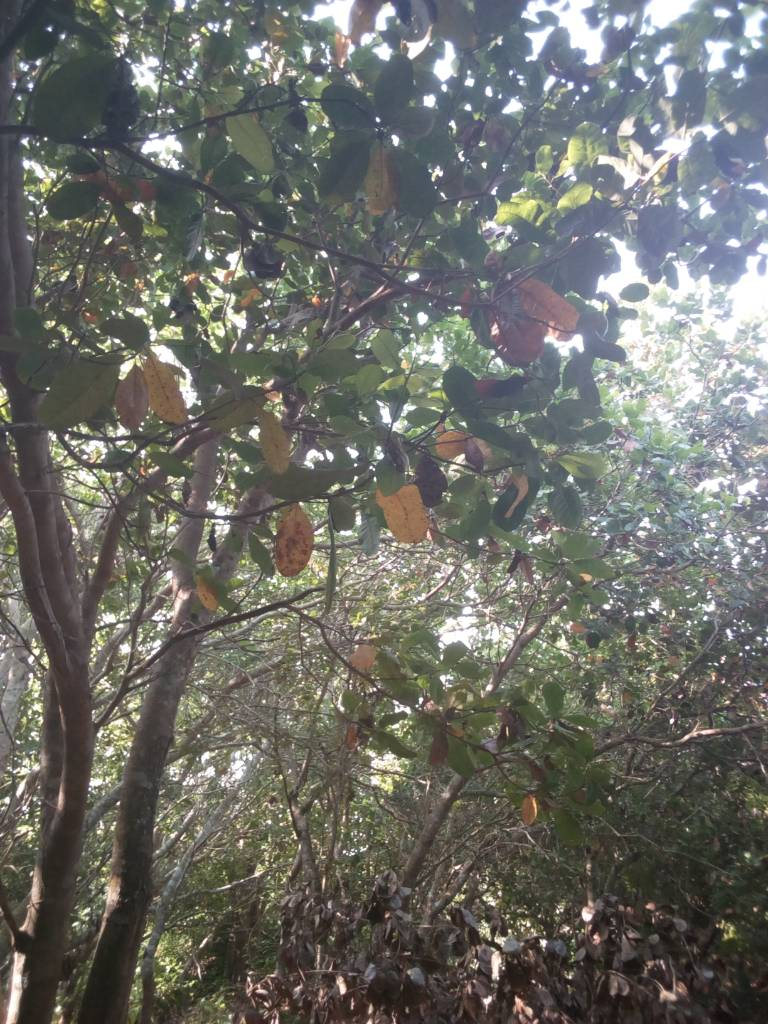Anthracnose: (269, 497, 315, 577), (361, 127, 396, 216), (140, 360, 190, 421)
